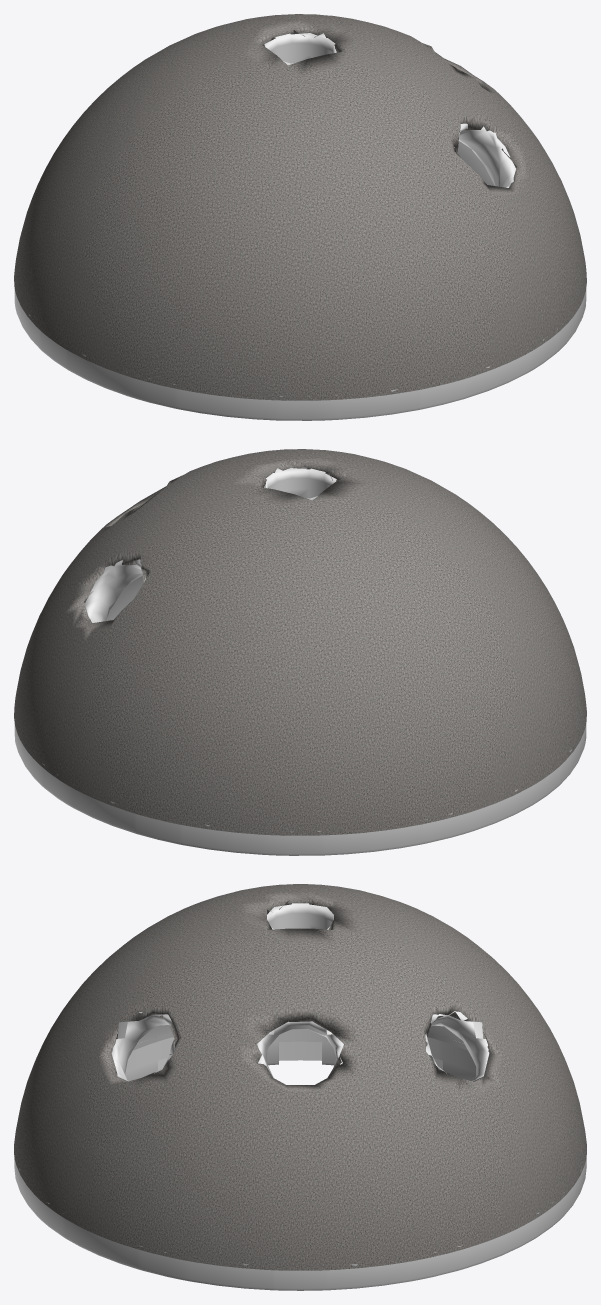
File: cup-apex-tps.lod1.glb
3 renders of one model, top to bottom at view 1: azimuth 30°, elevation 25°; view 2: azimuth 150°, elevation 25°; view 3: azimuth 270°, elevation 25°, orthographic.
Parts seen in each view (by area): view 1: cup_apex_tps_52; view 2: cup_apex_tps_52; view 3: cup_apex_tps_52.
Part boxes in pixels (x1=…): cup_apex_tps_52: x1=14, y1=14, x2=586, y2=420; cup_apex_tps_52: x1=14, y1=449, x2=586, y2=855; cup_apex_tps_52: x1=14, y1=884, x2=586, y2=1290.
Bounding box in the file's own units: 0.0518 × 0.0257 × 0.0518.
2 materials, 1 textured.
